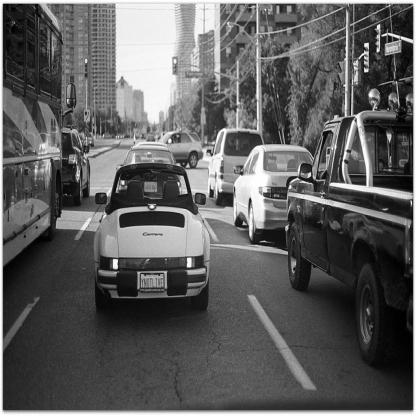Car: (283, 1, 416, 364), (93, 166, 210, 313), (233, 148, 316, 245), (207, 130, 264, 202), (118, 149, 182, 196), (65, 126, 90, 208), (161, 133, 203, 171)
